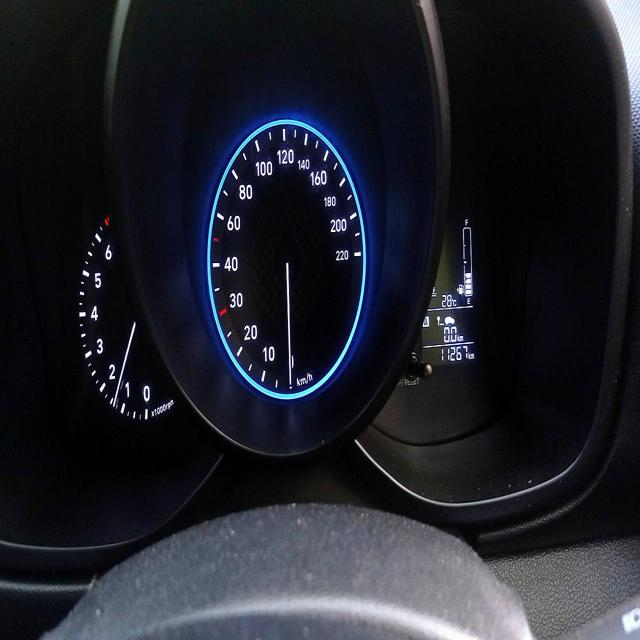odometer: (439, 344, 468, 364)
